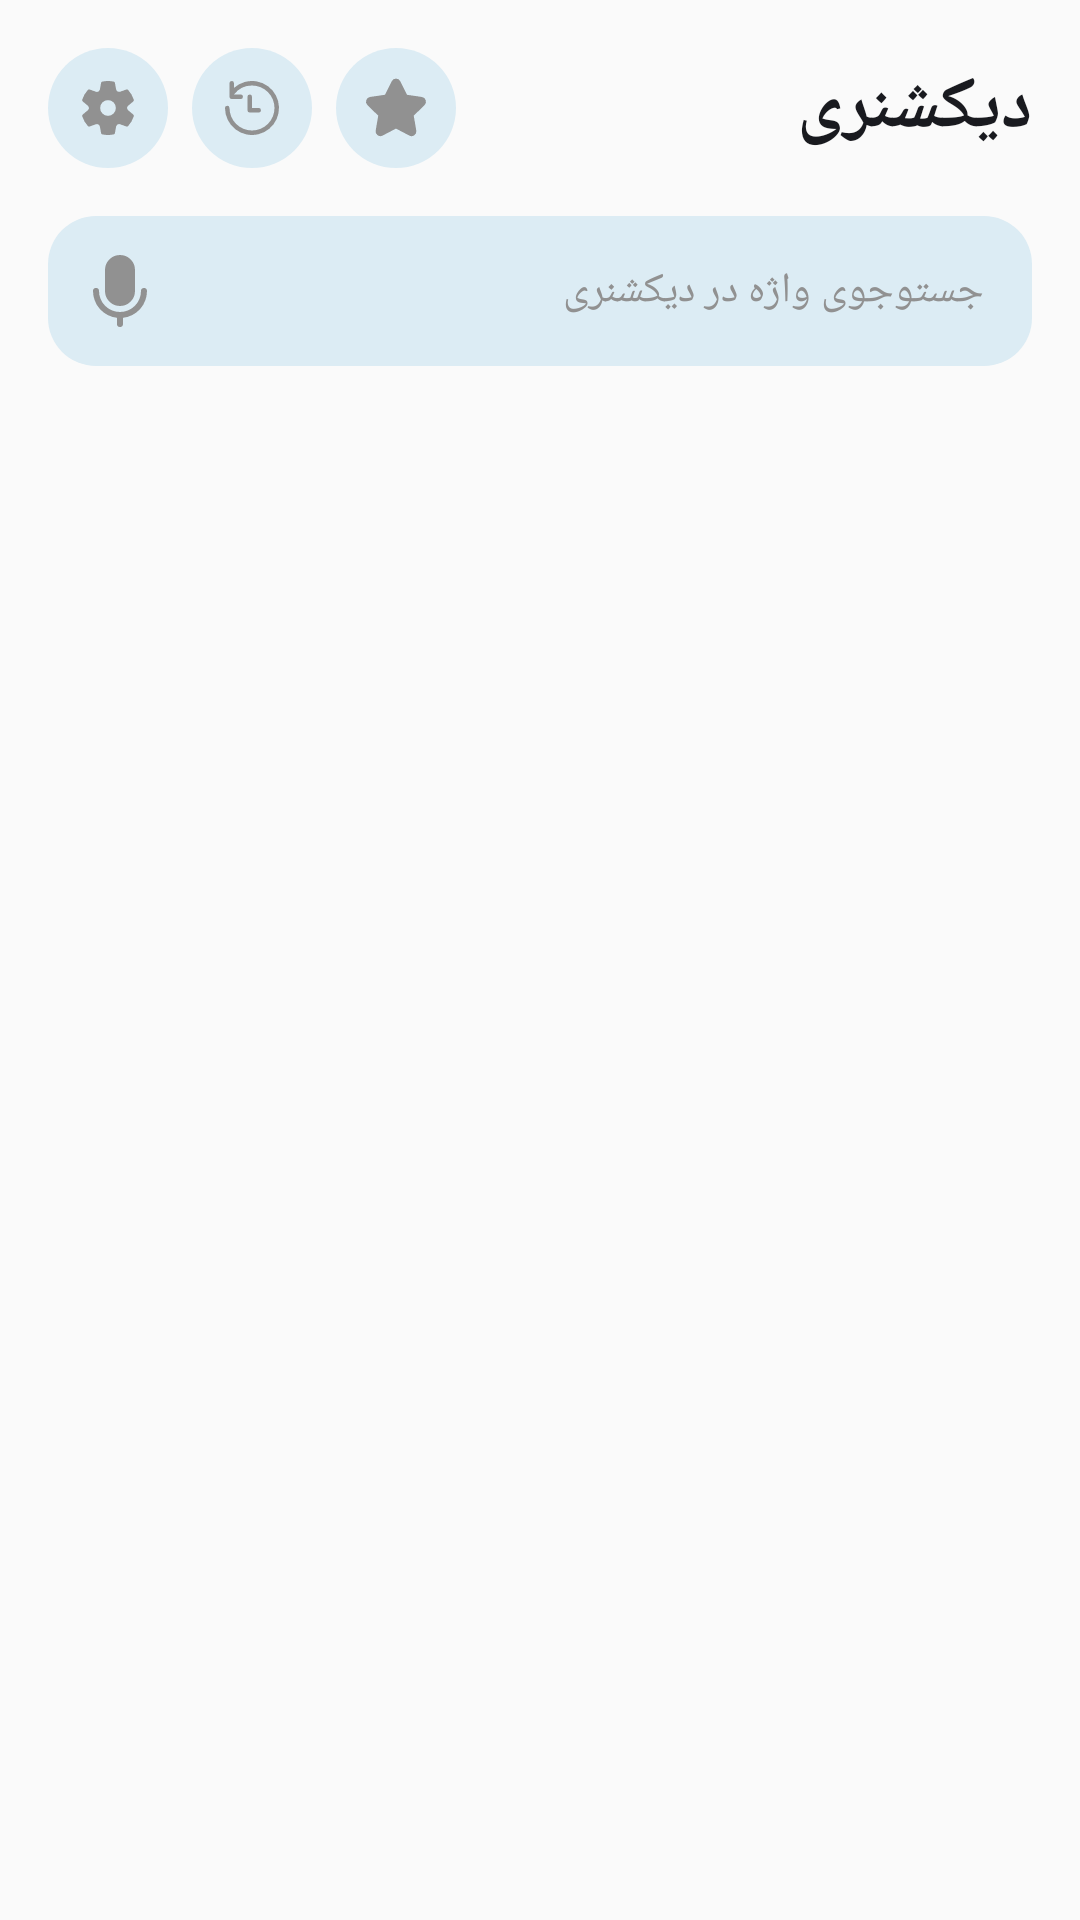

Screen size 1080 x 1920. Icon name, then its center in pixels as [x,y]:
history: [252,108]
mic nobg: [120,291]
star: [396,108]
